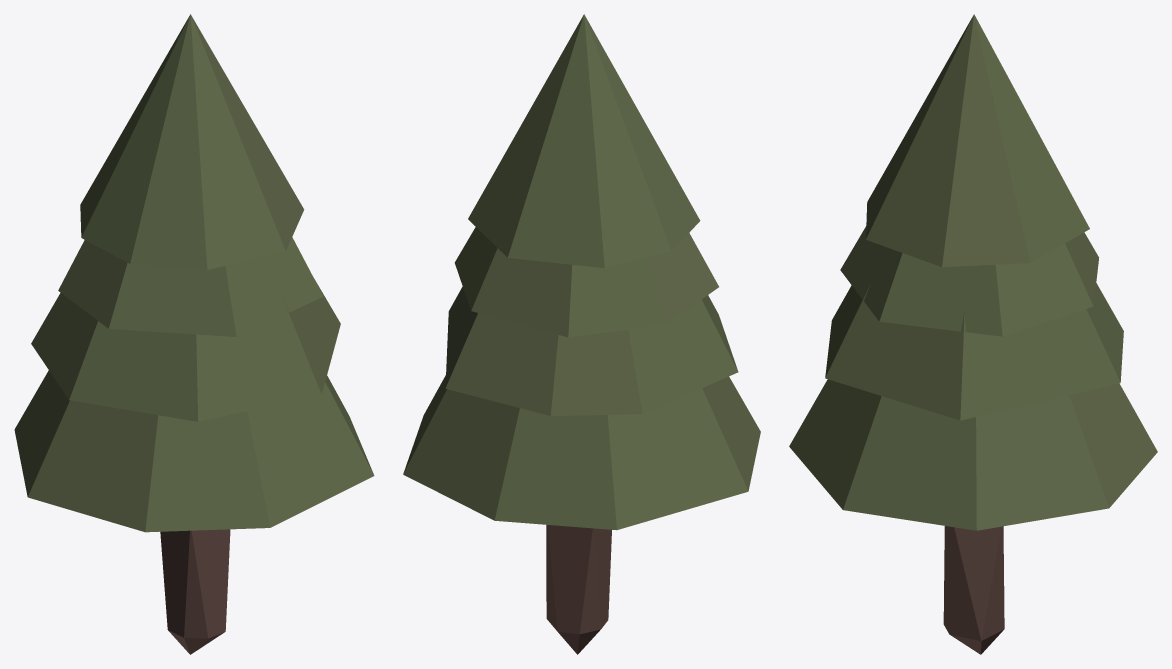
The model's file is Arbol2.fbx.
3 renders of one model, left to right at view 1: azimuth 30°, elevation 25°; view 2: azimuth 150°, elevation 25°; view 3: azimuth 270°, elevation 25°, orthographic.
Parts seen in each view (by area): view 1: Cone.001, Tronco.002; view 2: Cone.001, Tronco.002; view 3: Cone.001, Tronco.002.
Part boxes in pixels (x1,y1,x2,y2): Cone.001: (14, 14, 374, 532); Tronco.002: (160, 529, 230, 654); Cone.001: (403, 14, 760, 530); Tronco.002: (546, 524, 611, 654); Cone.001: (789, 14, 1157, 530); Tronco.002: (943, 526, 1004, 654).
Bounding box in the file's own units: 289 × 548 × 286.
